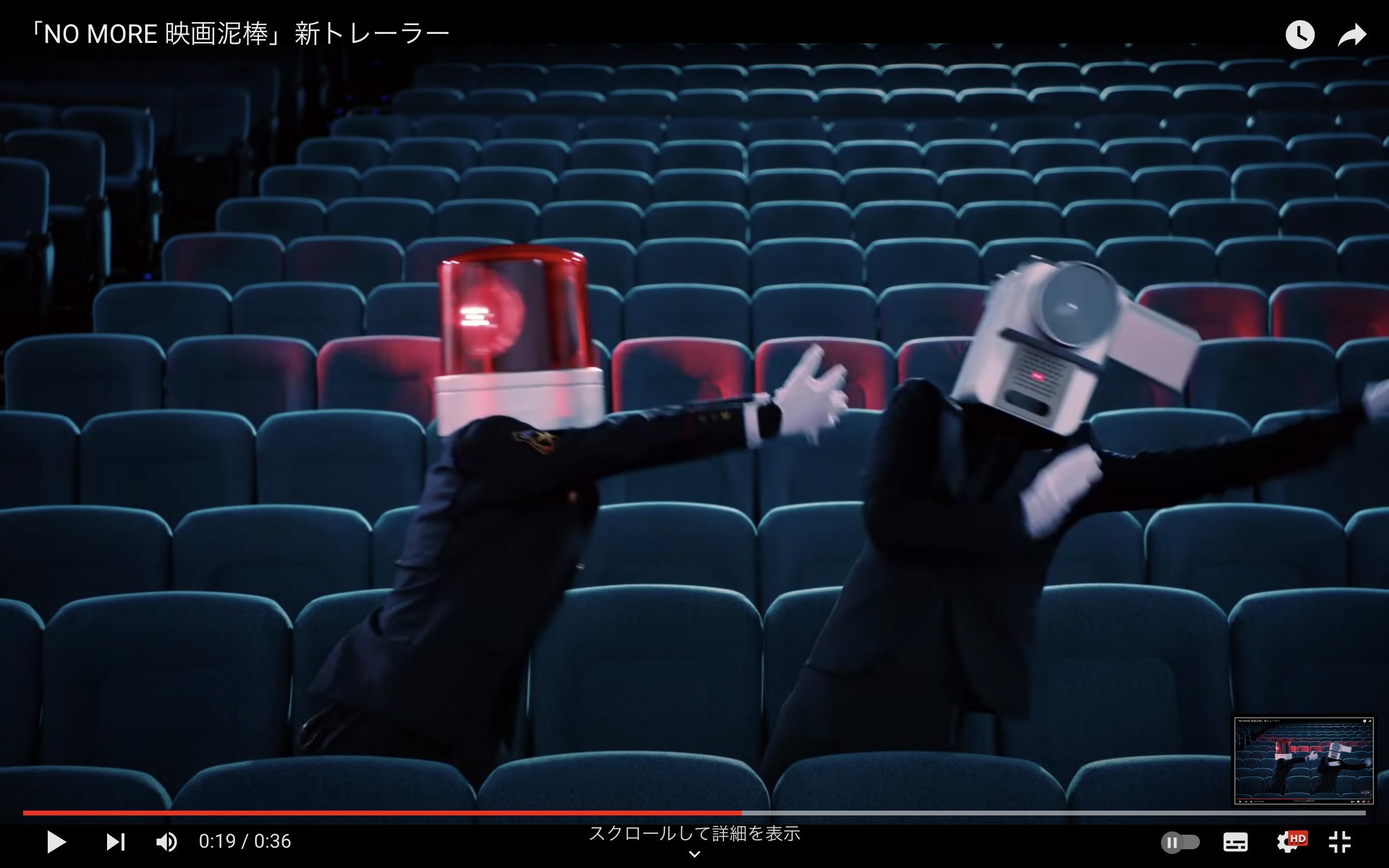no more kid: (953, 262, 1205, 433)
